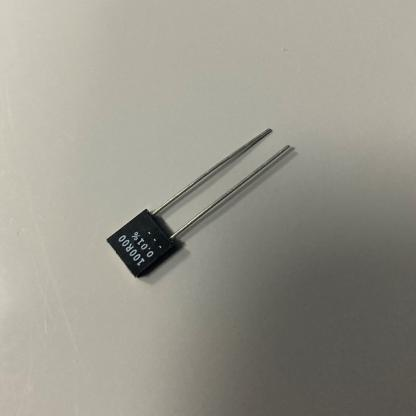SP0000007: (52, 76, 336, 324)
